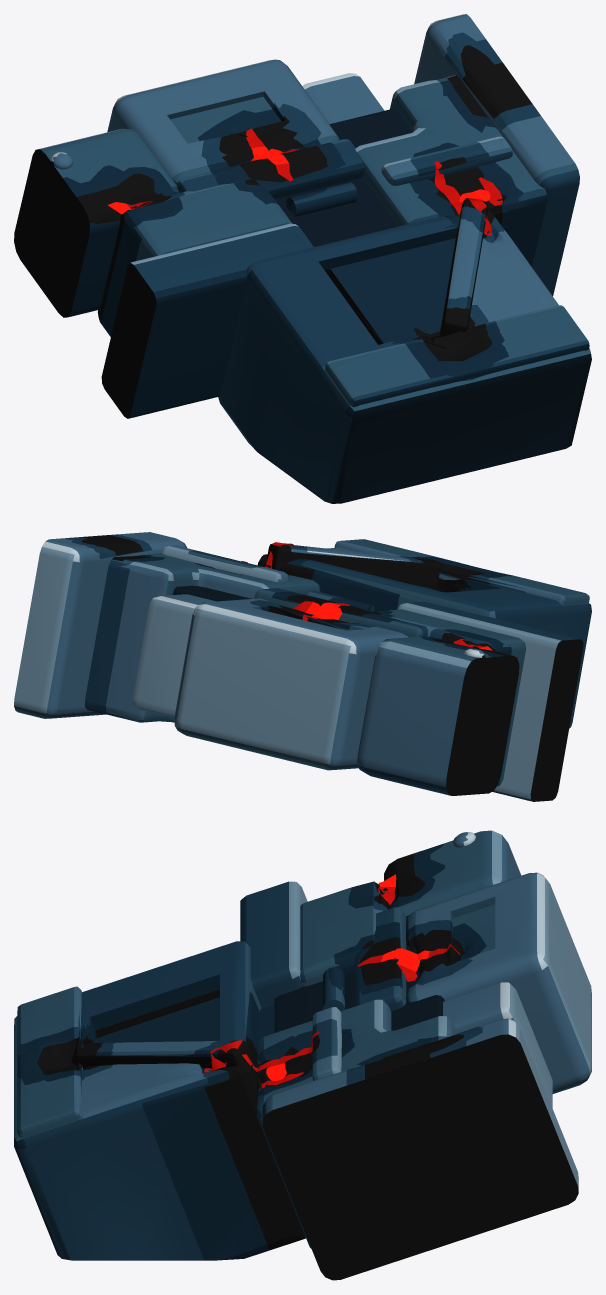
The model's file is deli_cannon_l_dmg_mount.glb.
The picture shows the model from 3 angles, top to bottom: view 1: azimuth 30°, elevation 25°; view 2: azimuth 150°, elevation 25°; view 3: azimuth 270°, elevation 25°; orthographic projection. The views are drawn at different scales.
Parts seen in each view (by area): view 1: trunnion.001, ledge.001, hull.001, sight.001, lower_box.001, rear_block.001, base_strip.001, lower_block.001, core.001, sight_base.001, strut.001, rail.001 (+3 smaller); view 2: sight.001, hull.001, rear_block.001, lower_box.001, ledge.001, trunnion.001, small_box.001, strut.001, base_strip.001, lower_block.001, sight_base.001, rail.001 (+3 smaller); view 3: trunnion.001, rear_block.001, sight.001, base_strip.001, lower_box.001, hull.001, ledge.001, lower_block.001, strut.001, sight_base.001, small_box.001, core.001 (+3 smaller).
Part boxes in pixels (x1,y1,x2,y2): trunnion.001: [218, 209, 591, 503]; ledge.001: [101, 223, 313, 418]; hull.001: [14, 128, 179, 317]; sight.001: [107, 59, 339, 182]; lower_box.001: [355, 75, 547, 266]; rear_block.001: [414, 14, 579, 296]; base_strip.001: [325, 305, 589, 406]; lower_block.001: [97, 178, 291, 336]; core.001: [132, 108, 412, 246]; sight_base.001: [177, 139, 365, 198]; strut.001: [439, 198, 488, 335]; rail.001: [381, 136, 512, 185]; sight.001: [174, 598, 408, 770]; hull.001: [356, 636, 519, 795]; rear_block.001: [14, 532, 186, 718]; lower_box.001: [85, 553, 320, 722]; ledge.001: [398, 601, 583, 801]; trunnion.001: [257, 547, 591, 728]; small_box.001: [133, 594, 215, 717]; strut.001: [267, 543, 440, 589]; base_strip.001: [334, 539, 589, 604]; lower_block.001: [370, 609, 525, 786]; sight_base.001: [254, 588, 427, 637]; rail.001: [162, 545, 288, 582]; trunnion.001: [14, 941, 305, 1260]; rear_block.001: [262, 1018, 578, 1280]; sight.001: [406, 872, 591, 1093]; base_strip.001: [17, 986, 83, 1137]; lower_box.001: [257, 999, 456, 1248]; hull.001: [384, 830, 521, 916]; ledge.001: [240, 881, 307, 1008]; lower_block.001: [300, 881, 389, 986]; strut.001: [75, 1040, 257, 1072]; sight_base.001: [355, 907, 406, 1011]; small_box.001: [443, 982, 552, 1107]; core.001: [274, 891, 444, 1032].
Size of the model in its own units: 24 by 13.54 by 25.52.
